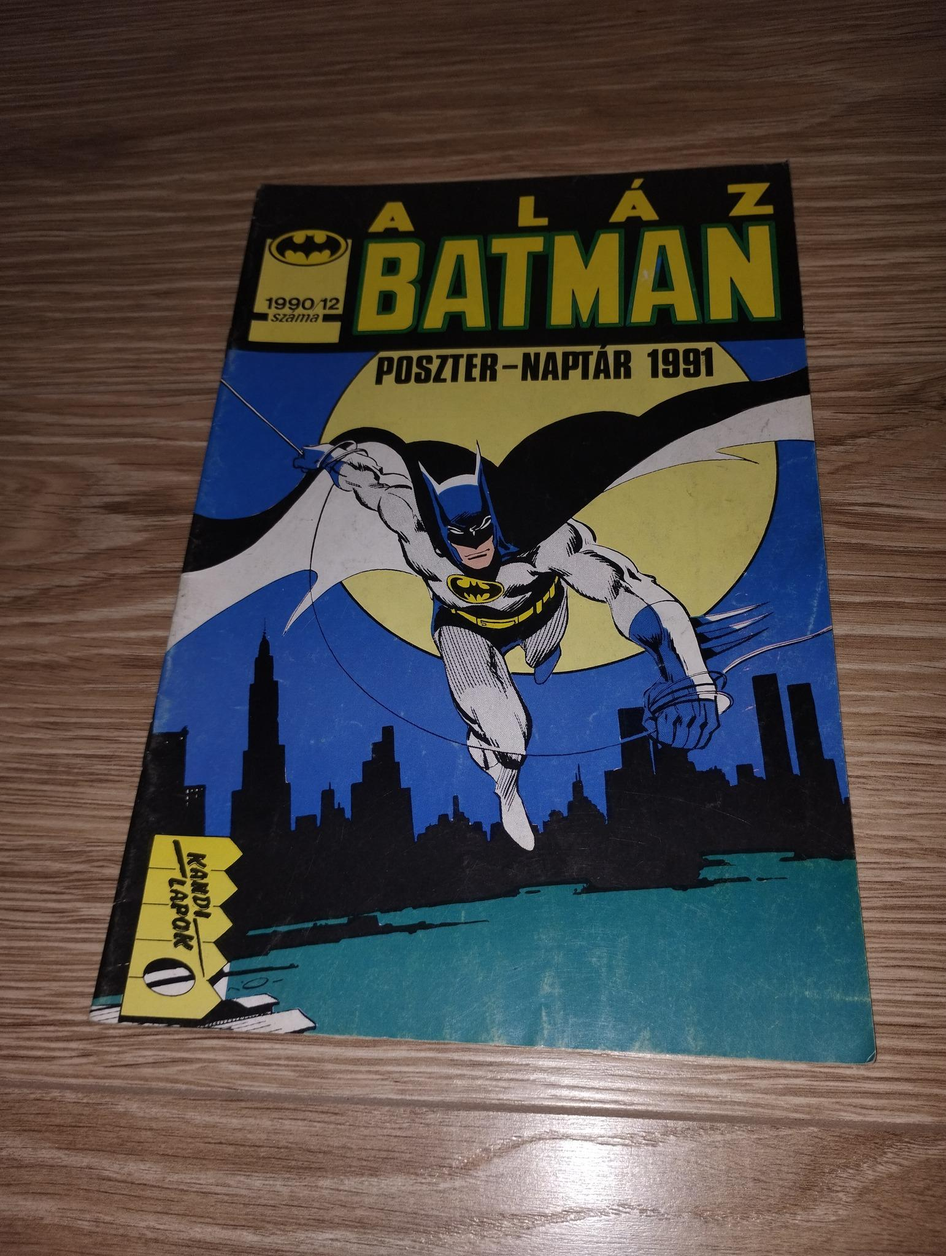comic: (92, 132, 919, 1063)
